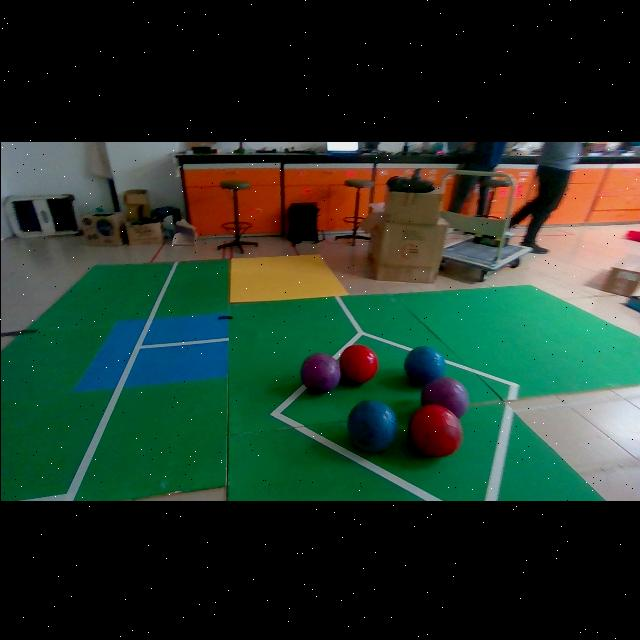B: (347, 398, 397, 451), (403, 344, 444, 384)
P: (420, 374, 468, 416), (299, 351, 340, 392)
R: (409, 403, 461, 456), (340, 344, 377, 382)
